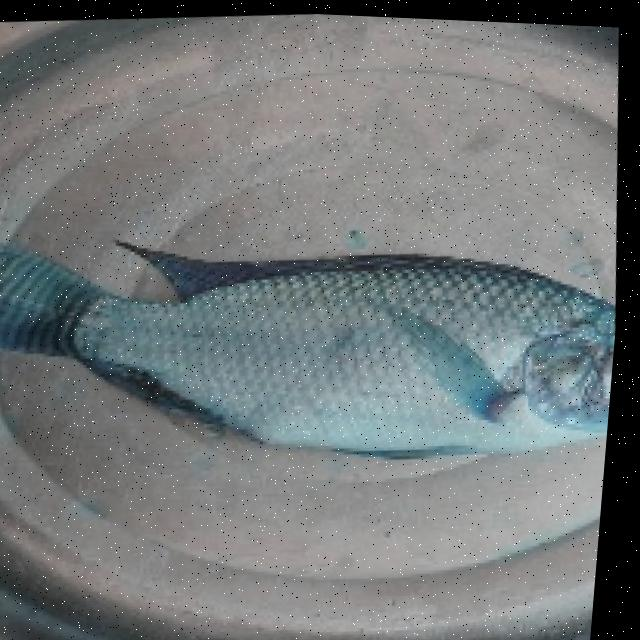Fresh: (253, 233, 626, 480)
